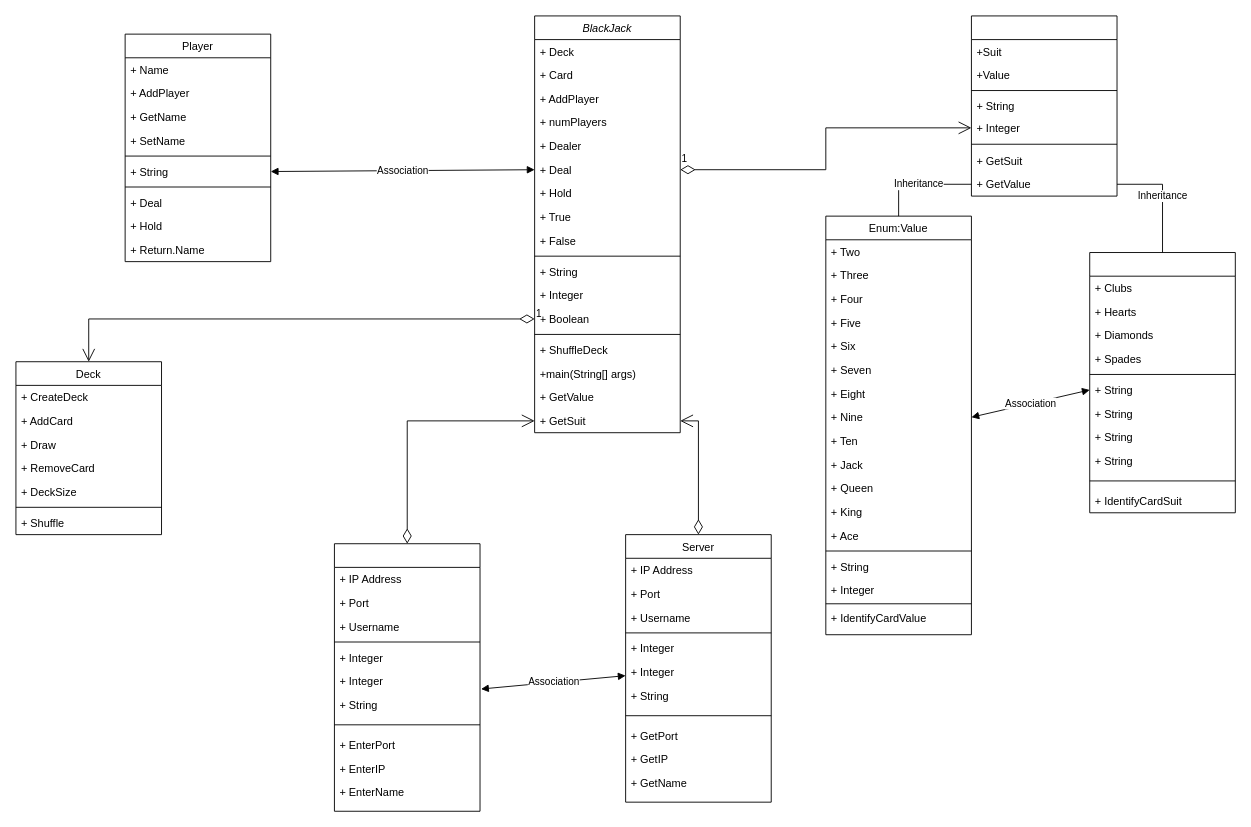
This 1251x827 diagram has some shape labels left out. Each missing label, with the box of its shape:
Card: (971, 15, 1117, 196)
Client/User: (334, 543, 480, 811)
Enum:Suit: (1089, 252, 1235, 513)
